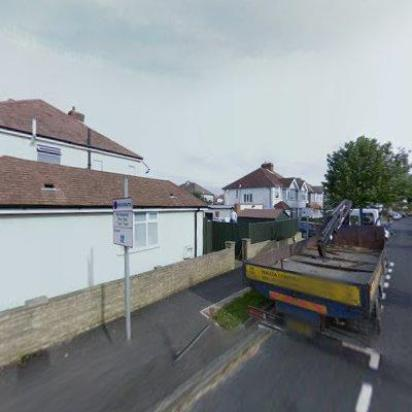stationary-car-onstreet: (295, 217, 323, 238), (389, 209, 403, 219)
stationary-heavy-truck-onstreet: (238, 196, 388, 342)
